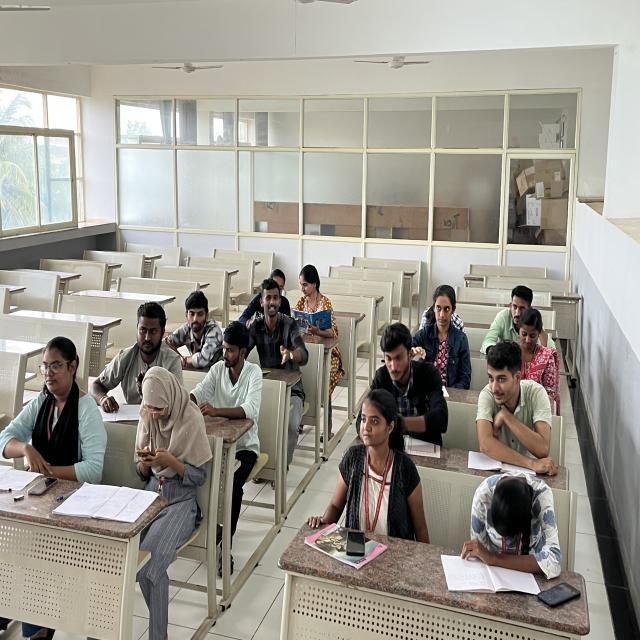Reading: (3, 311, 107, 490), (472, 341, 558, 473), (291, 245, 342, 337)
Sleeping: (448, 455, 580, 594)
Using Phone: (125, 363, 210, 538)
